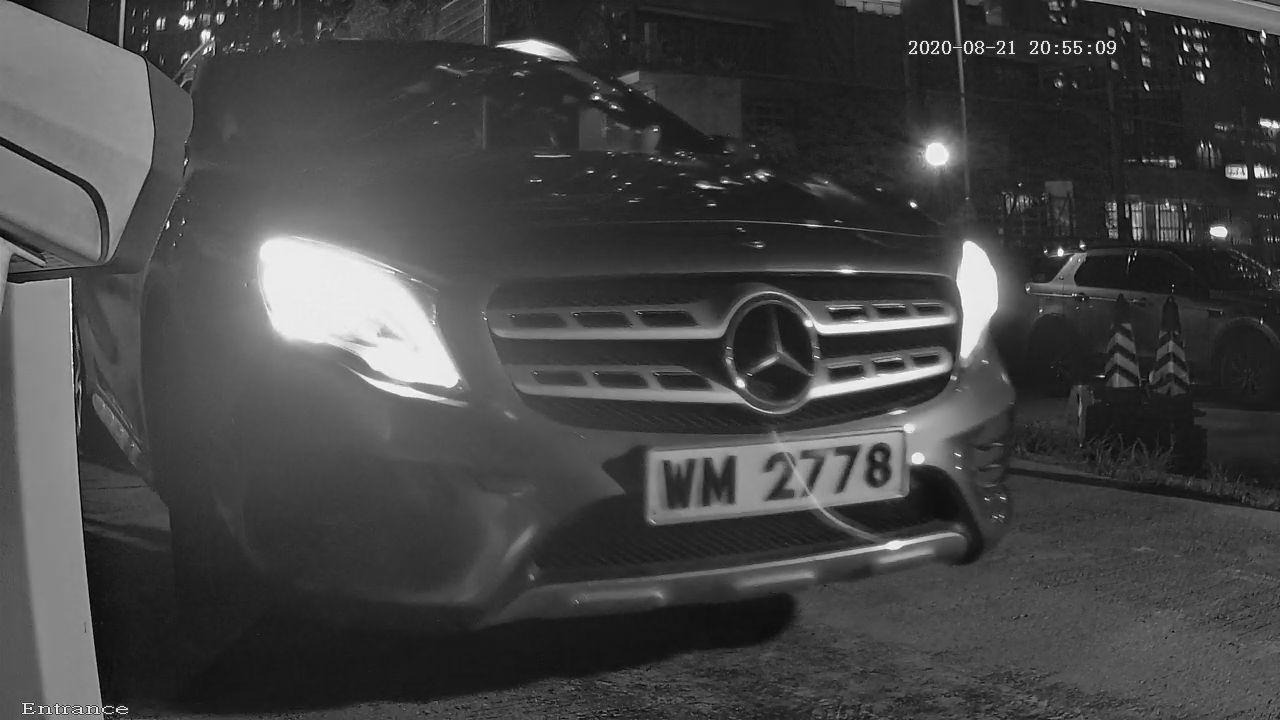Car: (1, 4, 1143, 704)
License Plate: (618, 401, 934, 571)
